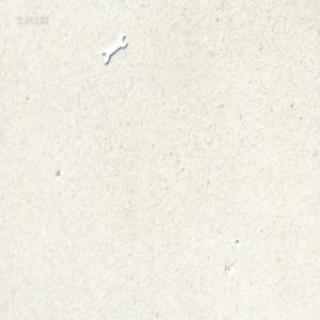Wrenchtrack_idkeyframe: (101, 36, 125, 67)
